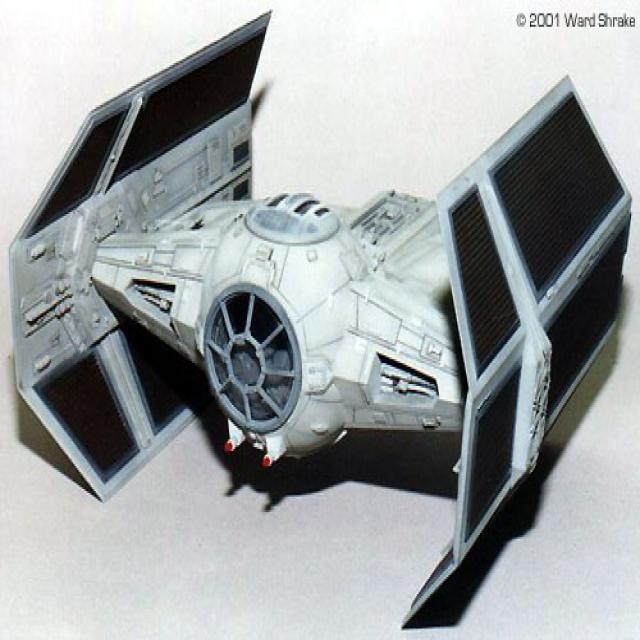tie fighter: (10, 13, 630, 608)
